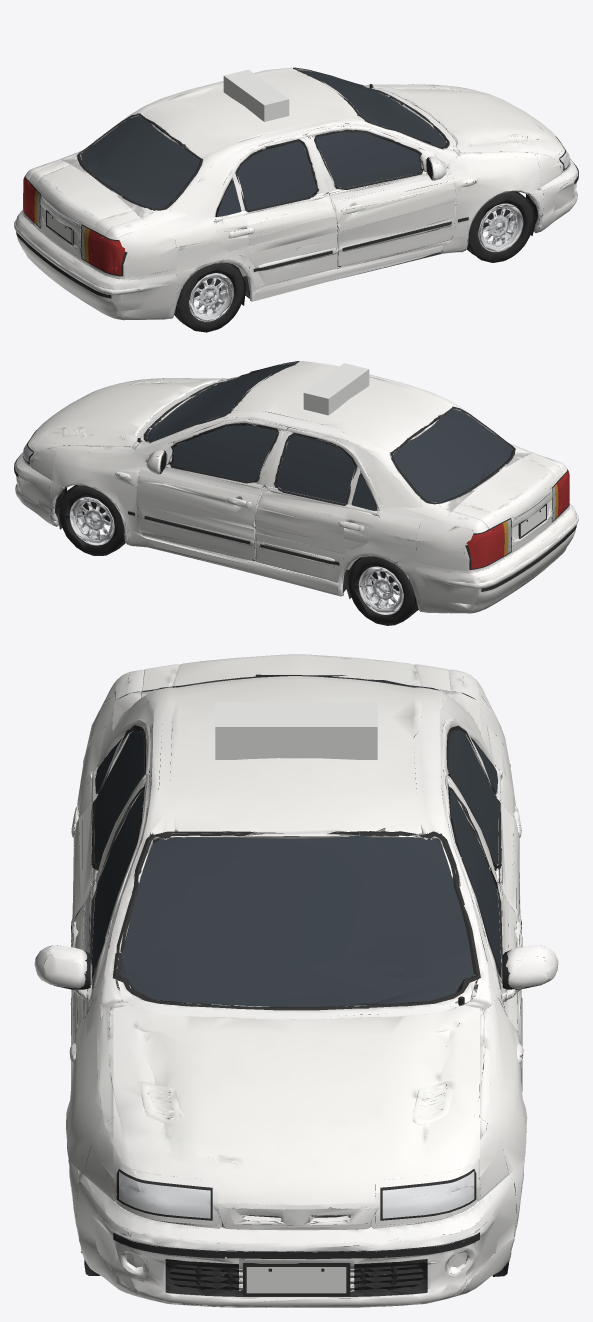
The picture shows the model from 3 angles, top to bottom: view 1: azimuth 30°, elevation 25°; view 2: azimuth 150°, elevation 25°; view 3: azimuth 270°, elevation 25°; orthographic projection. The views are drawn at different scales.
Parts seen in each view (by area): view 1: taxi_barao; view 2: taxi_barao; view 3: taxi_barao.
Part boxes in pixels (x1=…): taxi_barao: x1=14, y1=14, x2=578, y2=332; taxi_barao: x1=14, y1=361, x2=578, y2=625; taxi_barao: x1=34, y1=654, x2=558, y2=1307.
Size of the model in its own units: 4.39 by 1.59 by 2.
13 materials, 1 textured.
